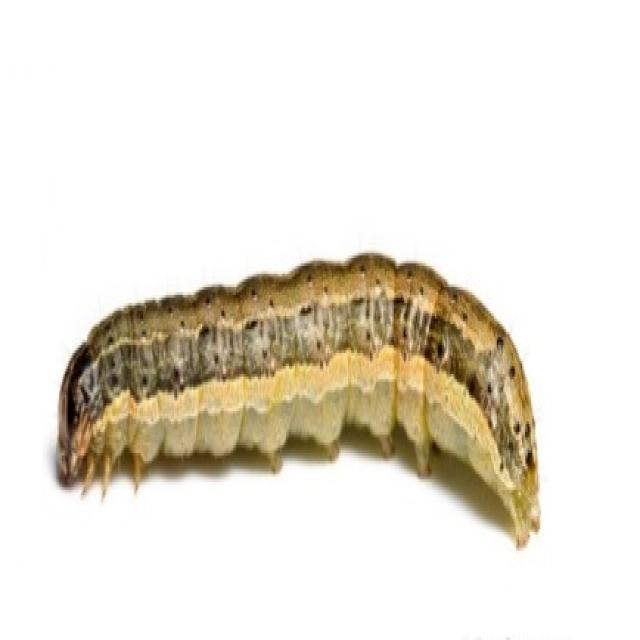worm: (56, 249, 542, 549)
